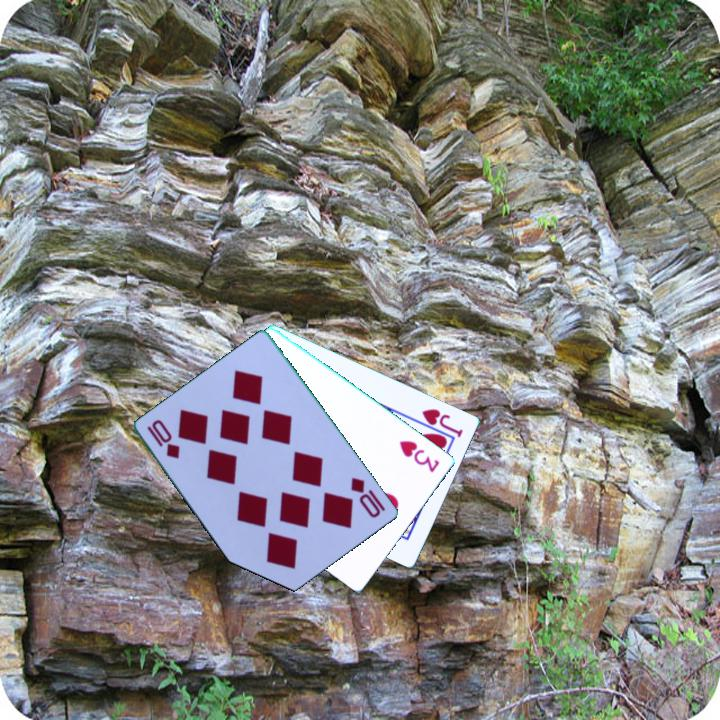10d: (347, 474, 389, 521), (144, 416, 183, 462)
3h: (396, 437, 443, 475)
Jh: (419, 405, 466, 440)
